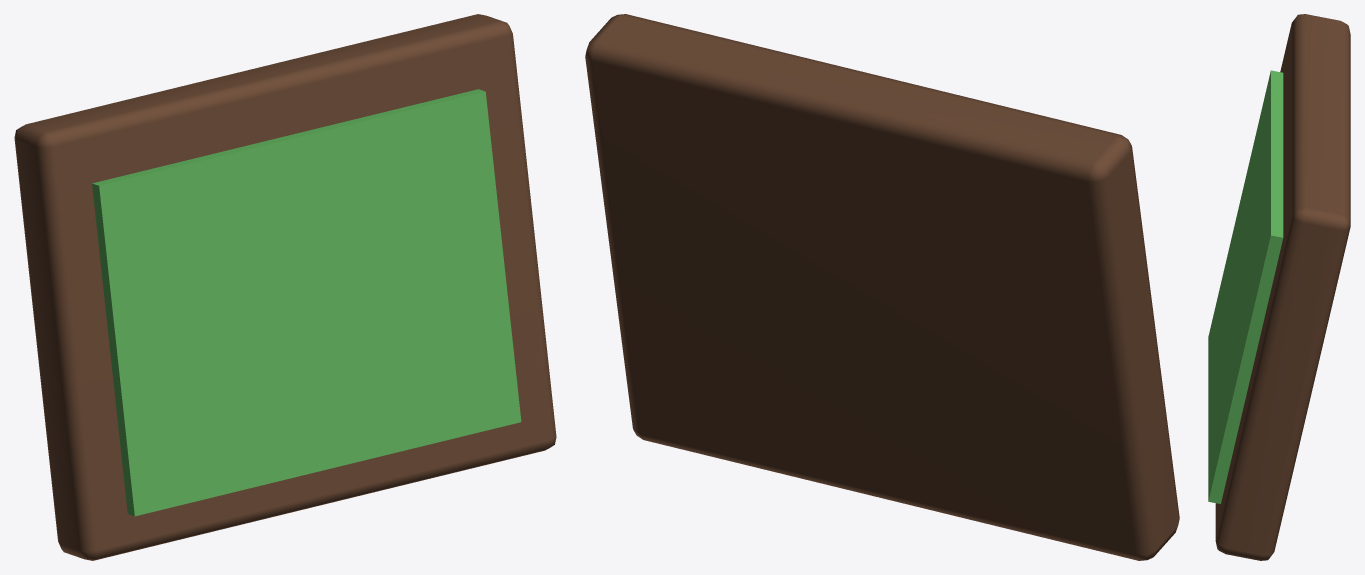
The model's file is PhotoFrame.fbx.
The picture shows the model from 3 angles, left to right: view 1: azimuth 30°, elevation 25°; view 2: azimuth 150°, elevation 25°; view 3: azimuth 270°, elevation 25°; orthographic projection. The views are drawn at different scales.
Parts seen in each view (by area): view 1: Photo, Frame.004; view 2: Frame.004; view 3: Frame.004, Photo.
Part boxes in pixels (left/top/right/bottom): Photo: left=92, top=89, right=521, bottom=516; Frame.004: left=14, top=14, right=556, bottom=560; Frame.004: left=585, top=14, right=1179, bottom=560; Frame.004: left=1215, top=14, right=1350, bottom=560; Photo: left=1208, top=70, right=1283, bottom=503.
Size of the model in its own units: 0.16 by 0.1297 by 0.0473.
